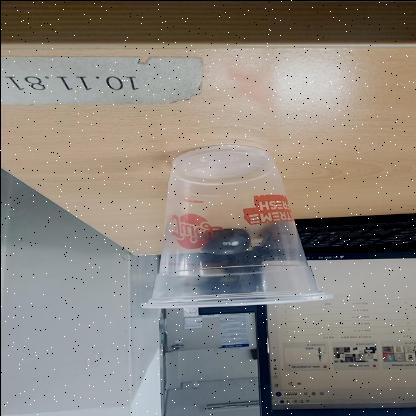Others: (138, 145, 336, 308)
